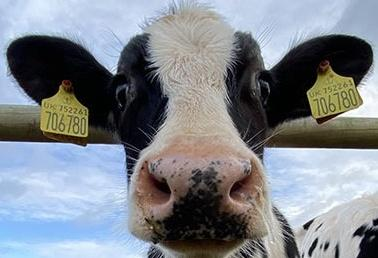muzzles: (124, 155, 280, 258)
